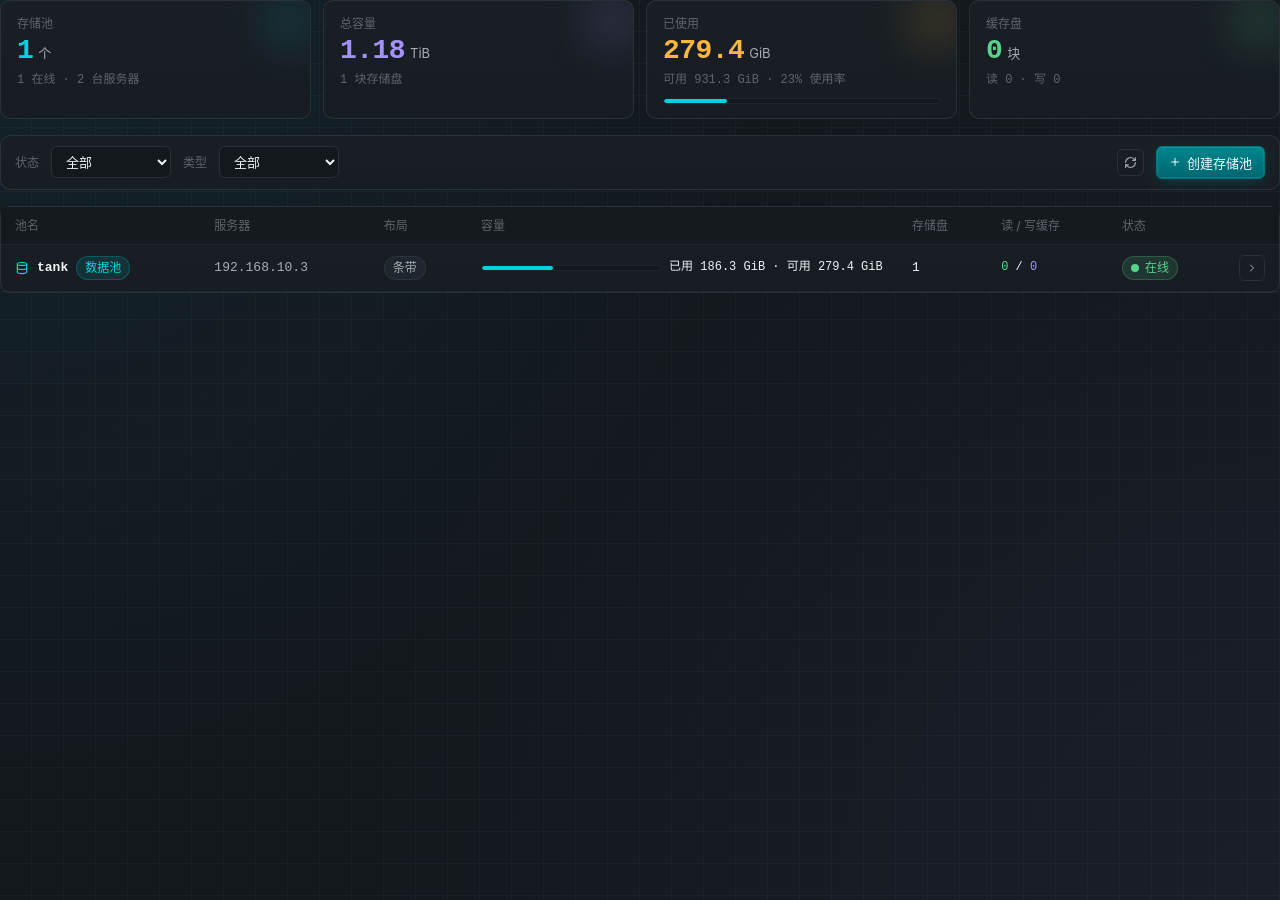
it: 存储页的集群口径 › 两种都没有的节点任选一种，必须选
Click the button "创建存储池".
click(1210, 162)  # box [1156,146,1265,179]
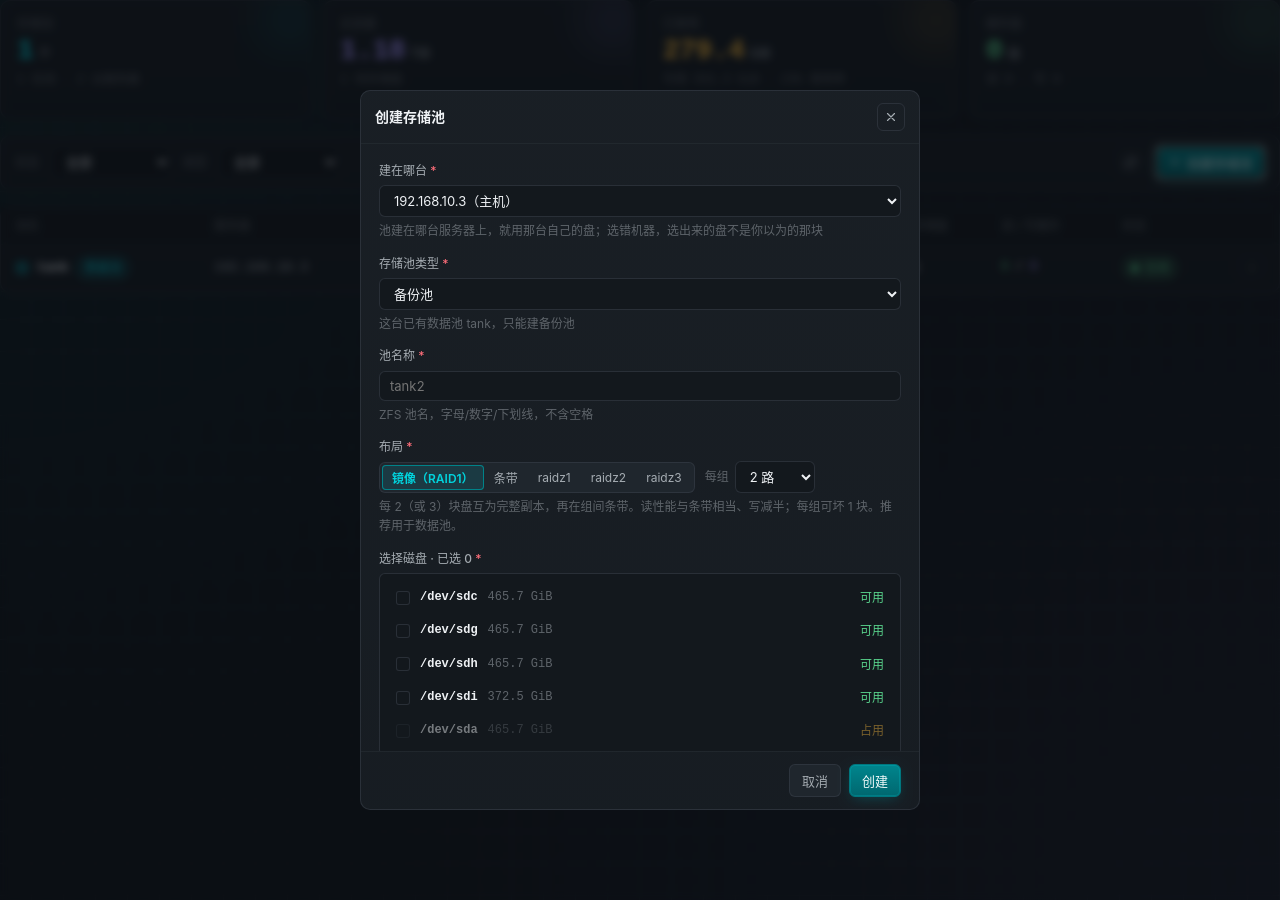
Select "192.168.10.4" in the dropdown named "建在哪台" at (640, 201), box [379,185,901,217]
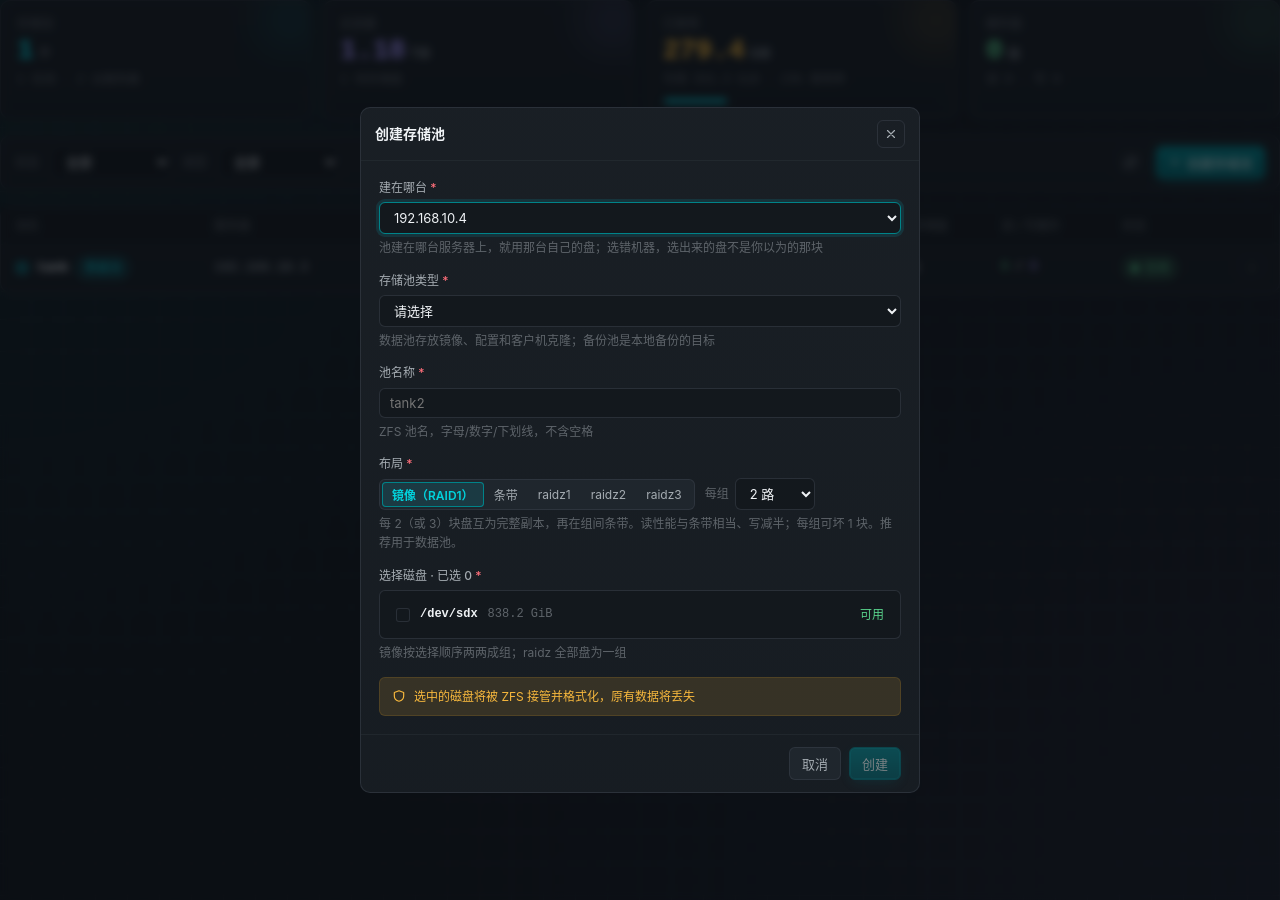
Check: the button "创建" is disabled, box [849,747,901,780]
Select "数据池" in the dropdown named "存储池类型" at (640, 311), box [379,295,901,327]
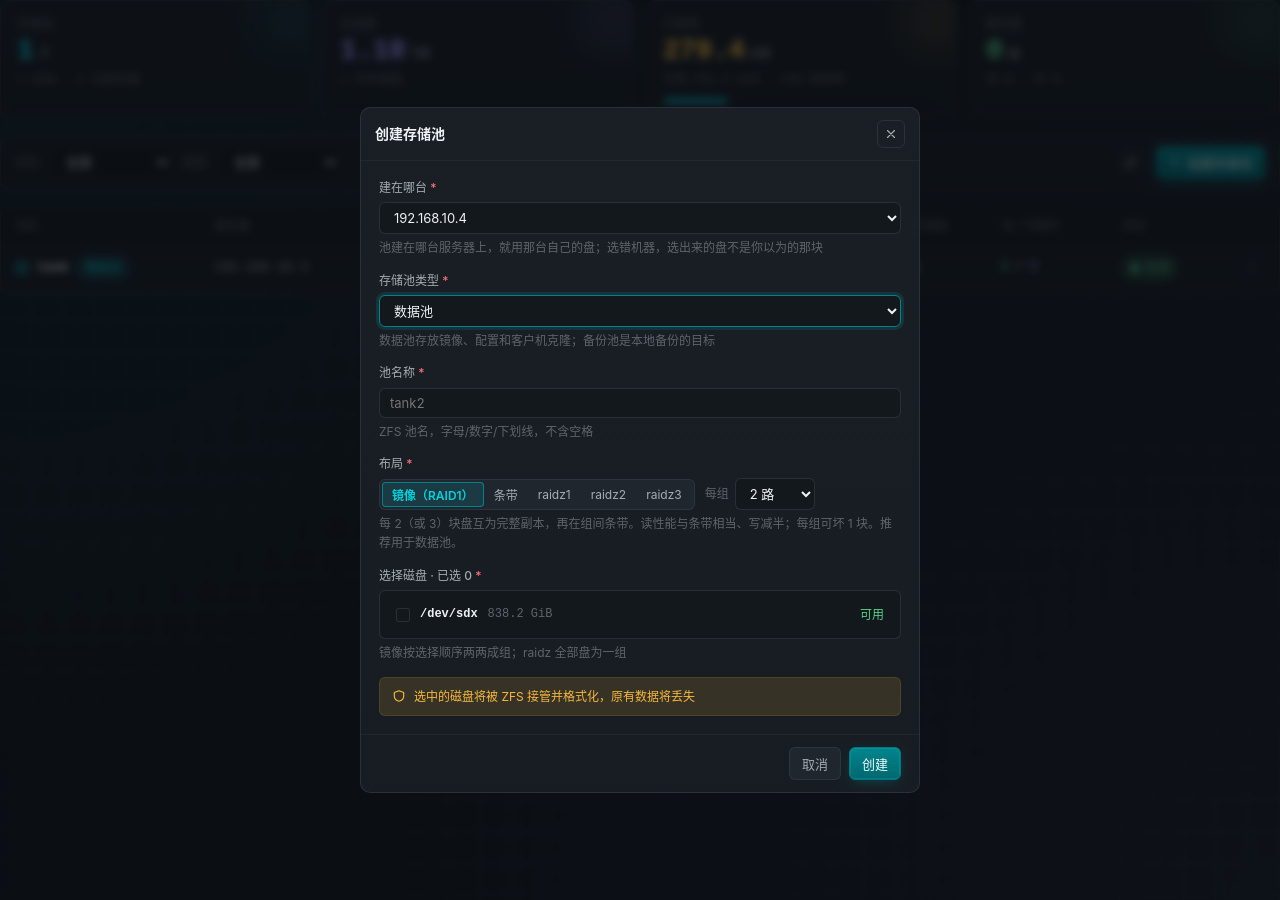
Check: the button "创建" is enabled, box [849,747,901,780]
